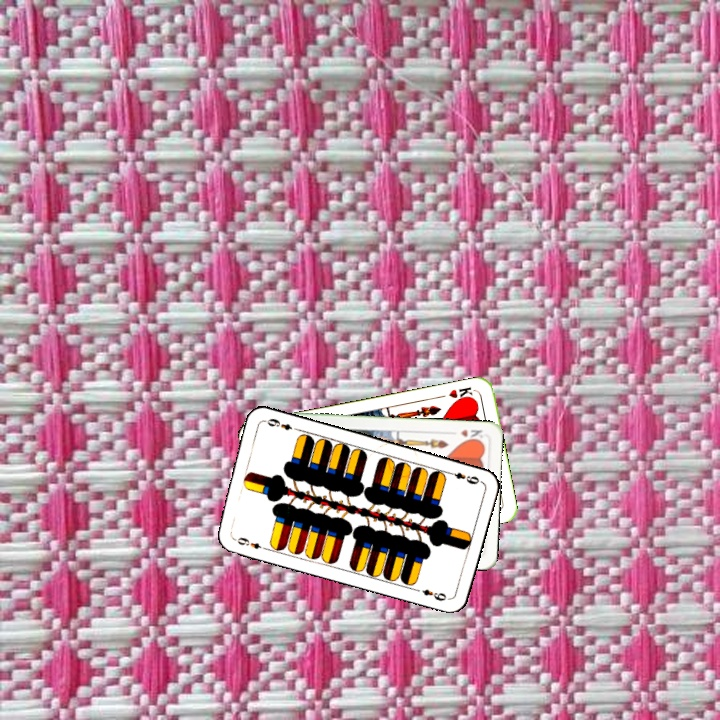E9: (443, 467, 483, 487), (229, 533, 269, 552)
HK: (445, 383, 478, 405), (456, 425, 485, 444)
